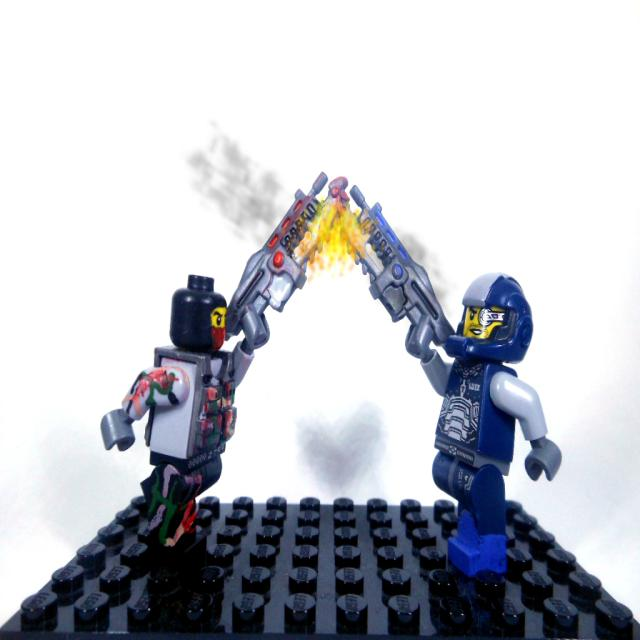Toy: (100, 170, 348, 553), (0, 491, 639, 639)
